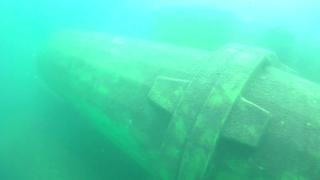pipe: (38, 28, 320, 180)
